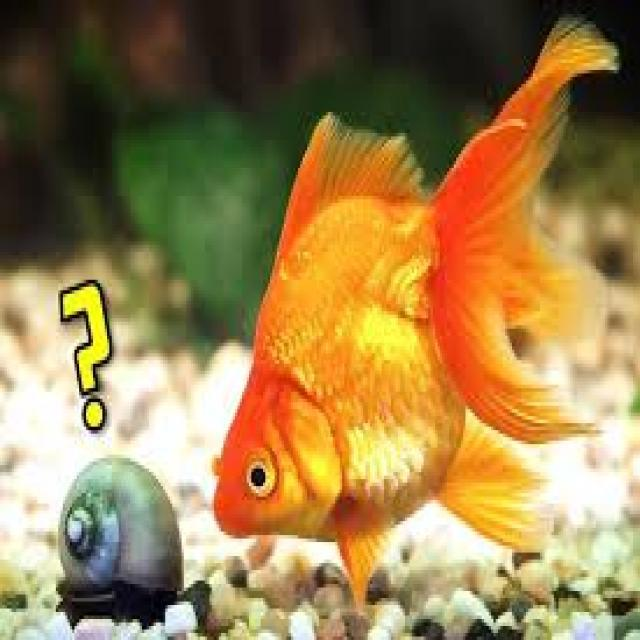goldfish: (212, 26, 594, 587)
